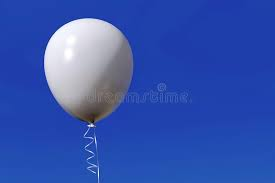Balloon: (44, 18, 133, 122)
